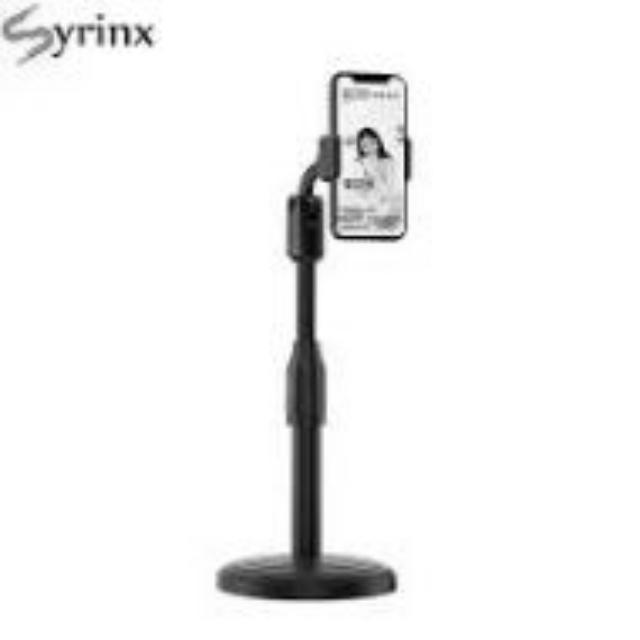fake: (322, 72, 413, 251)
